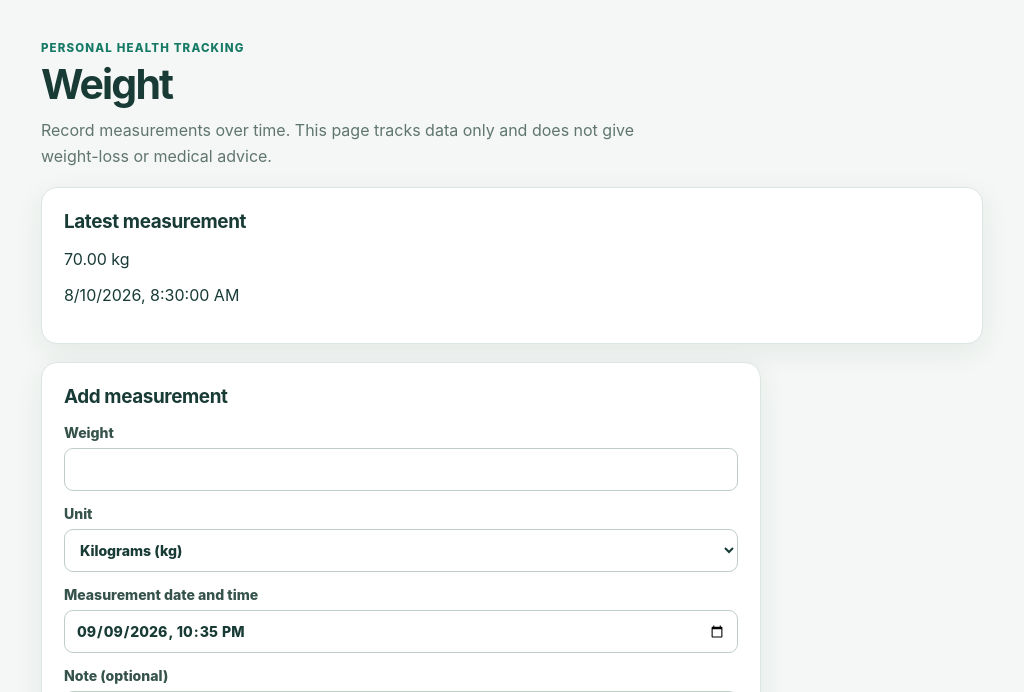
it: WeightPage › displays records and saves a new measurement
The image size is (1024, 692).
Type "71" into the number field labelled "Weight".
click(401, 470); type("71")  # box [64,448,738,491]
(page scrolled)
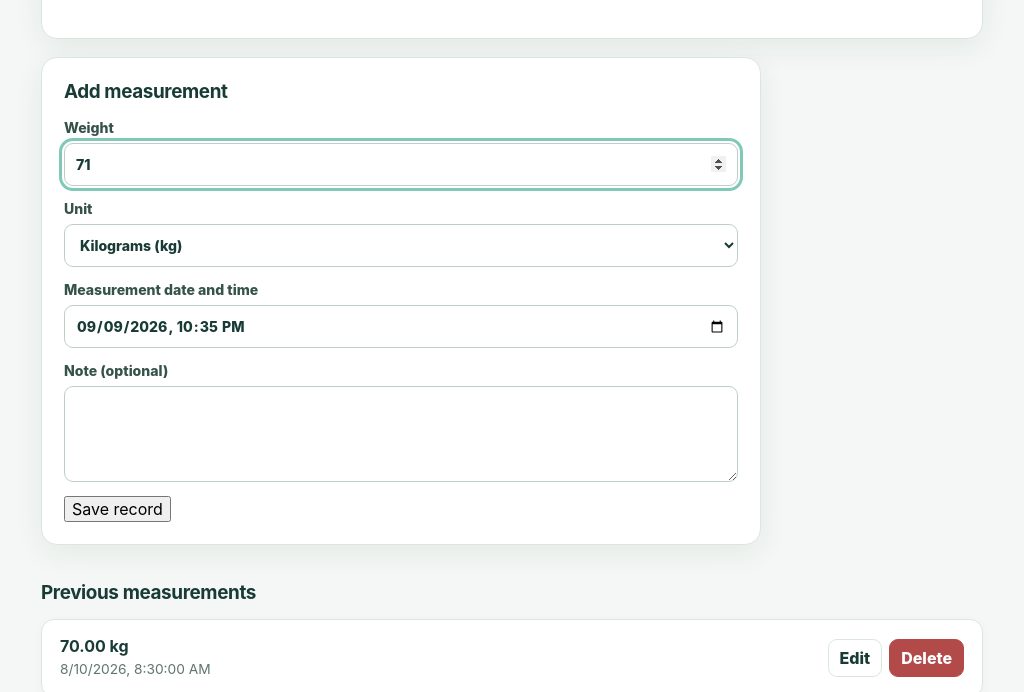
Click the button "Save record".
click(117, 509)  # box [64,496,171,522]
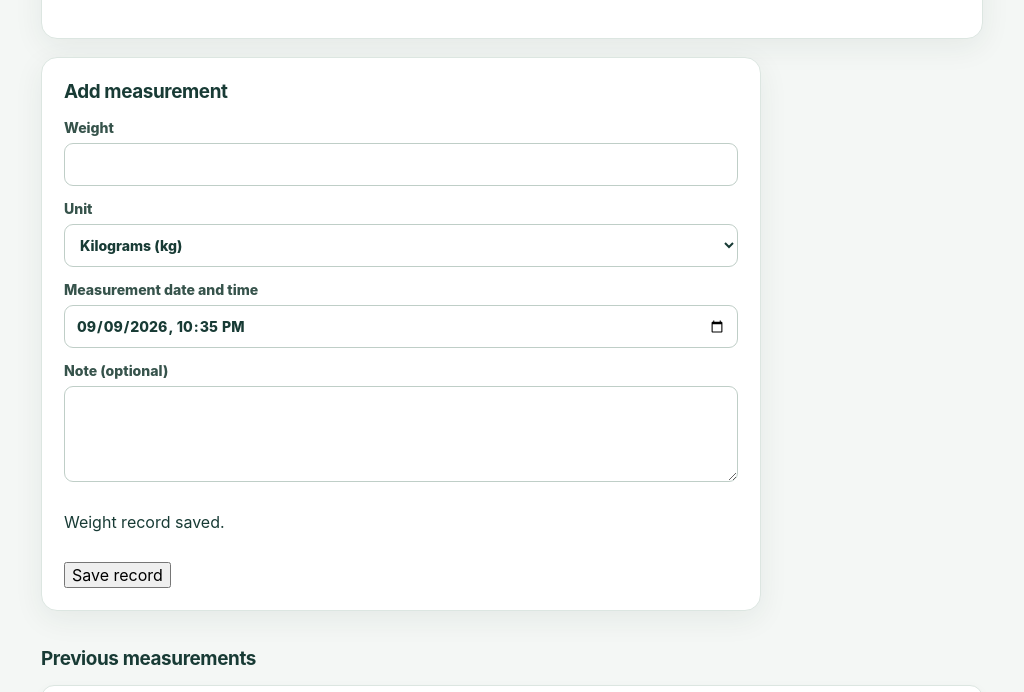
expect the text "Weight record saved." is shown: met, box [64,512,225,532]
